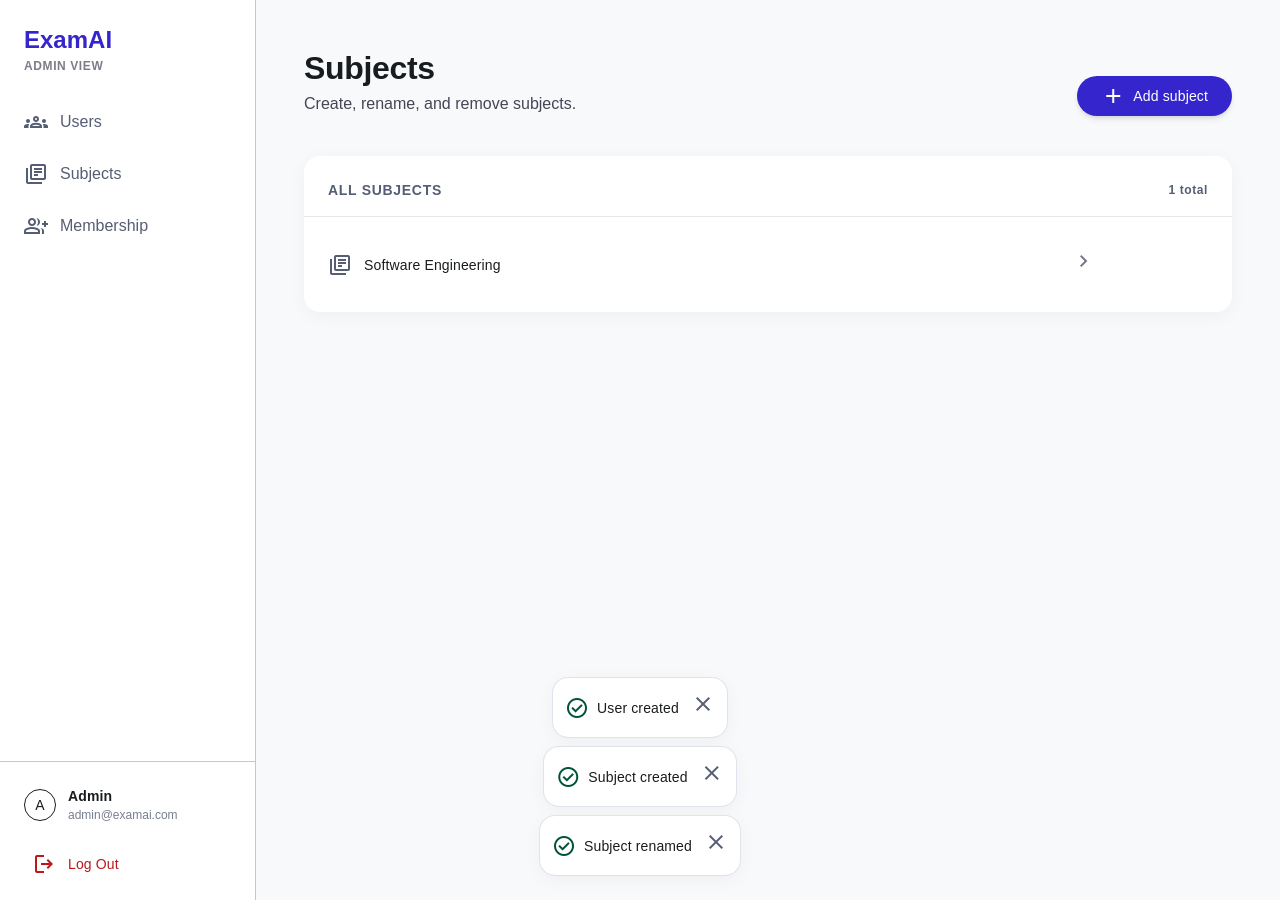
AdminSubjects › expands a subject to show its teachers and students
Click the text "Software Engineering": (432, 264) [364,256,501,272]
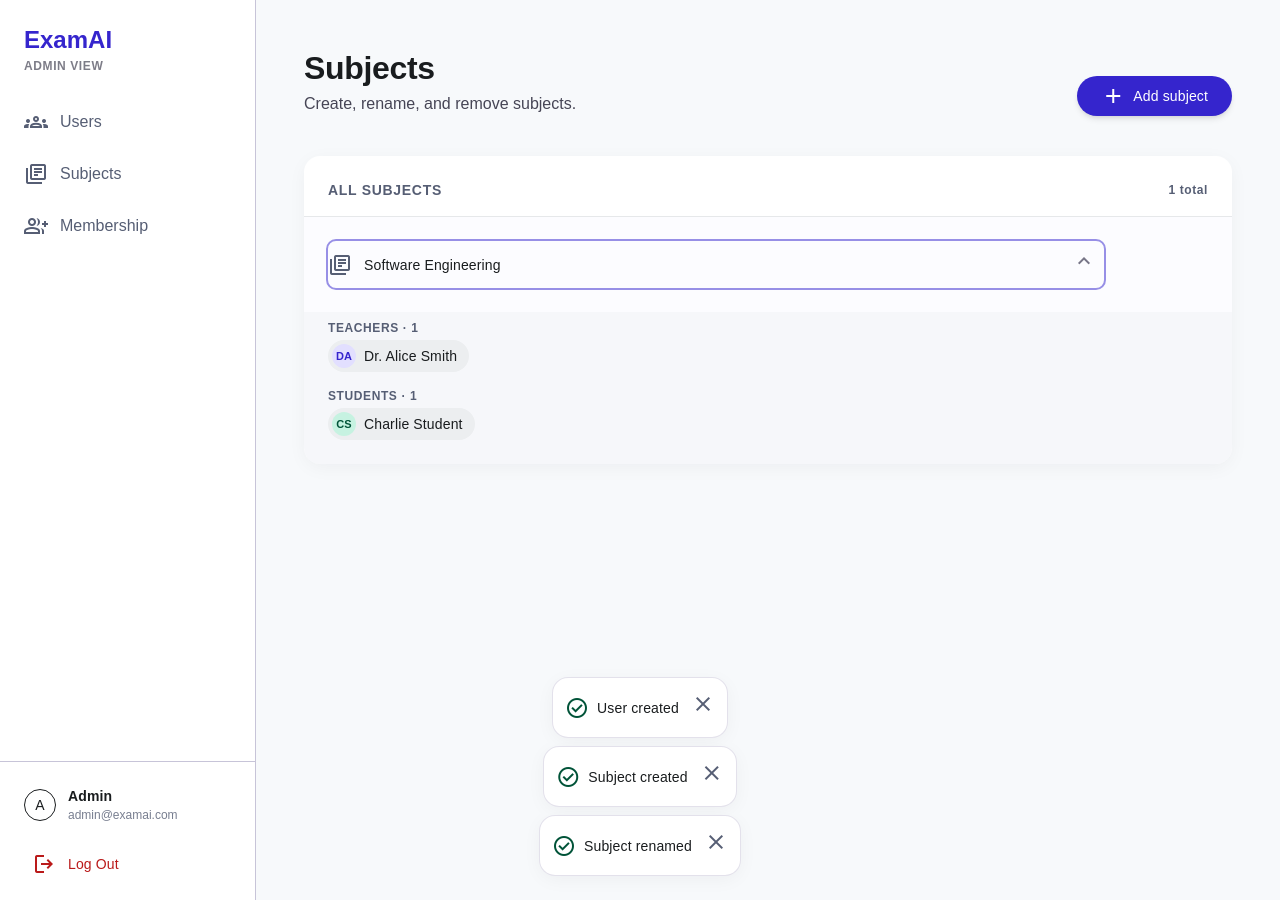
Expected: the text "Teachers · 1" is shown, [328,321,419,335]
Expected: the text "Students · 1" is shown, [328,389,417,403]
